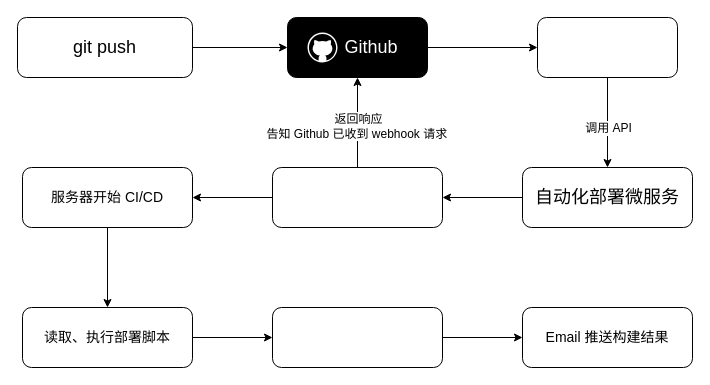
The diagram is 710 pixels wide and 385 high, and some of its shapes have lost their labels. Here are the shapes that lost their labels. From the top down, the centre of each, then its label:
[607,47]: 触发 webhook
[357,197]: 处理接口请求
[357,337]: 记录构建日志
